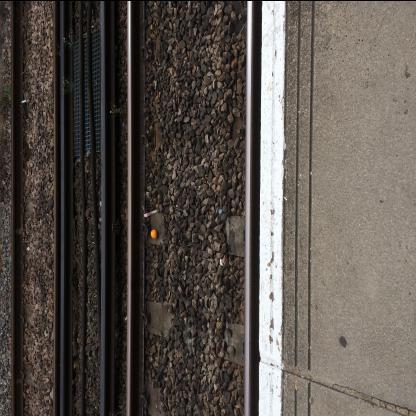plastik: (25, 92, 31, 112), (145, 210, 159, 218), (220, 209, 224, 215)
